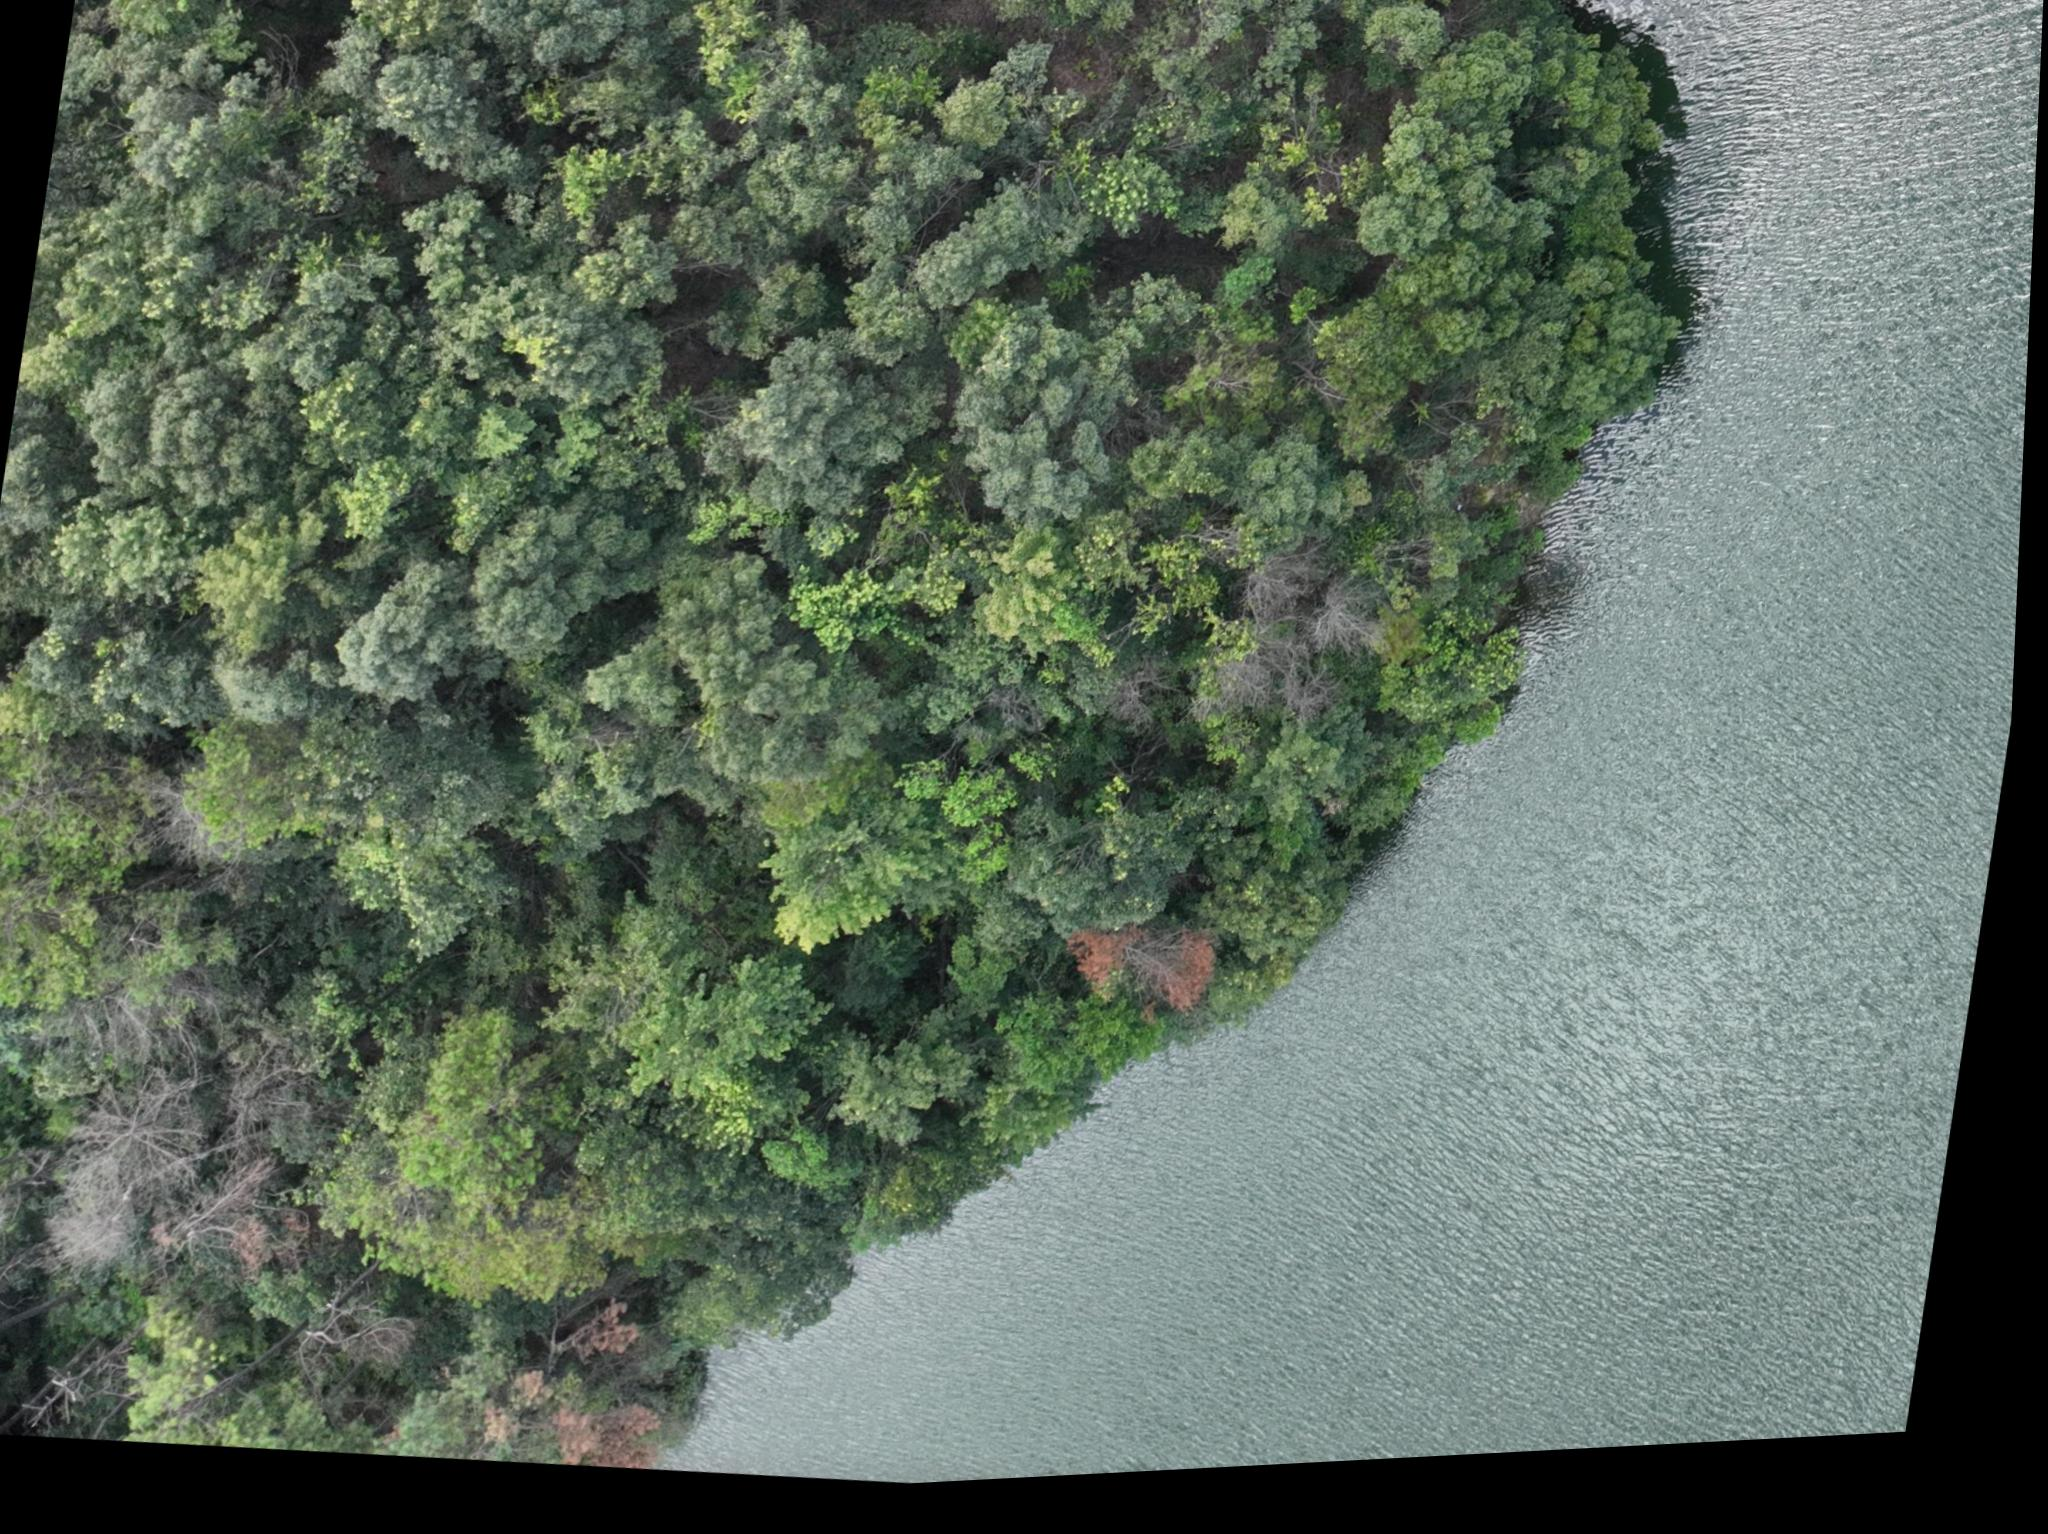dead: (0, 952, 353, 1357), (1217, 545, 1405, 764)
heavy: (498, 1271, 703, 1471), (1060, 915, 1244, 1038)
